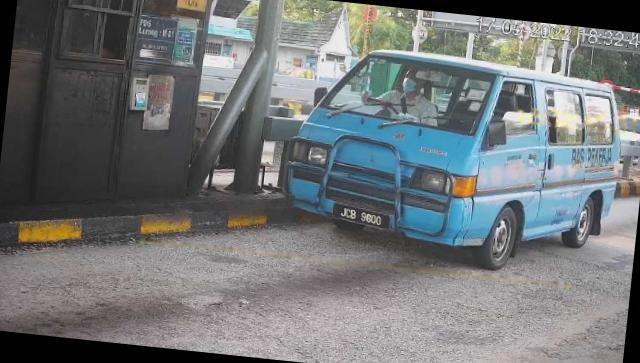License_Plate: (332, 204, 394, 234)
van: (278, 41, 631, 283)
